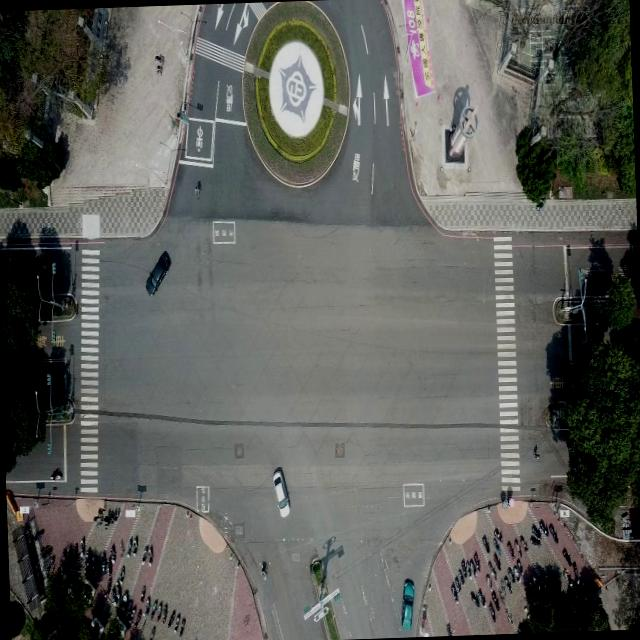car: (143, 249, 172, 296), (272, 466, 290, 517), (402, 567, 415, 637)
